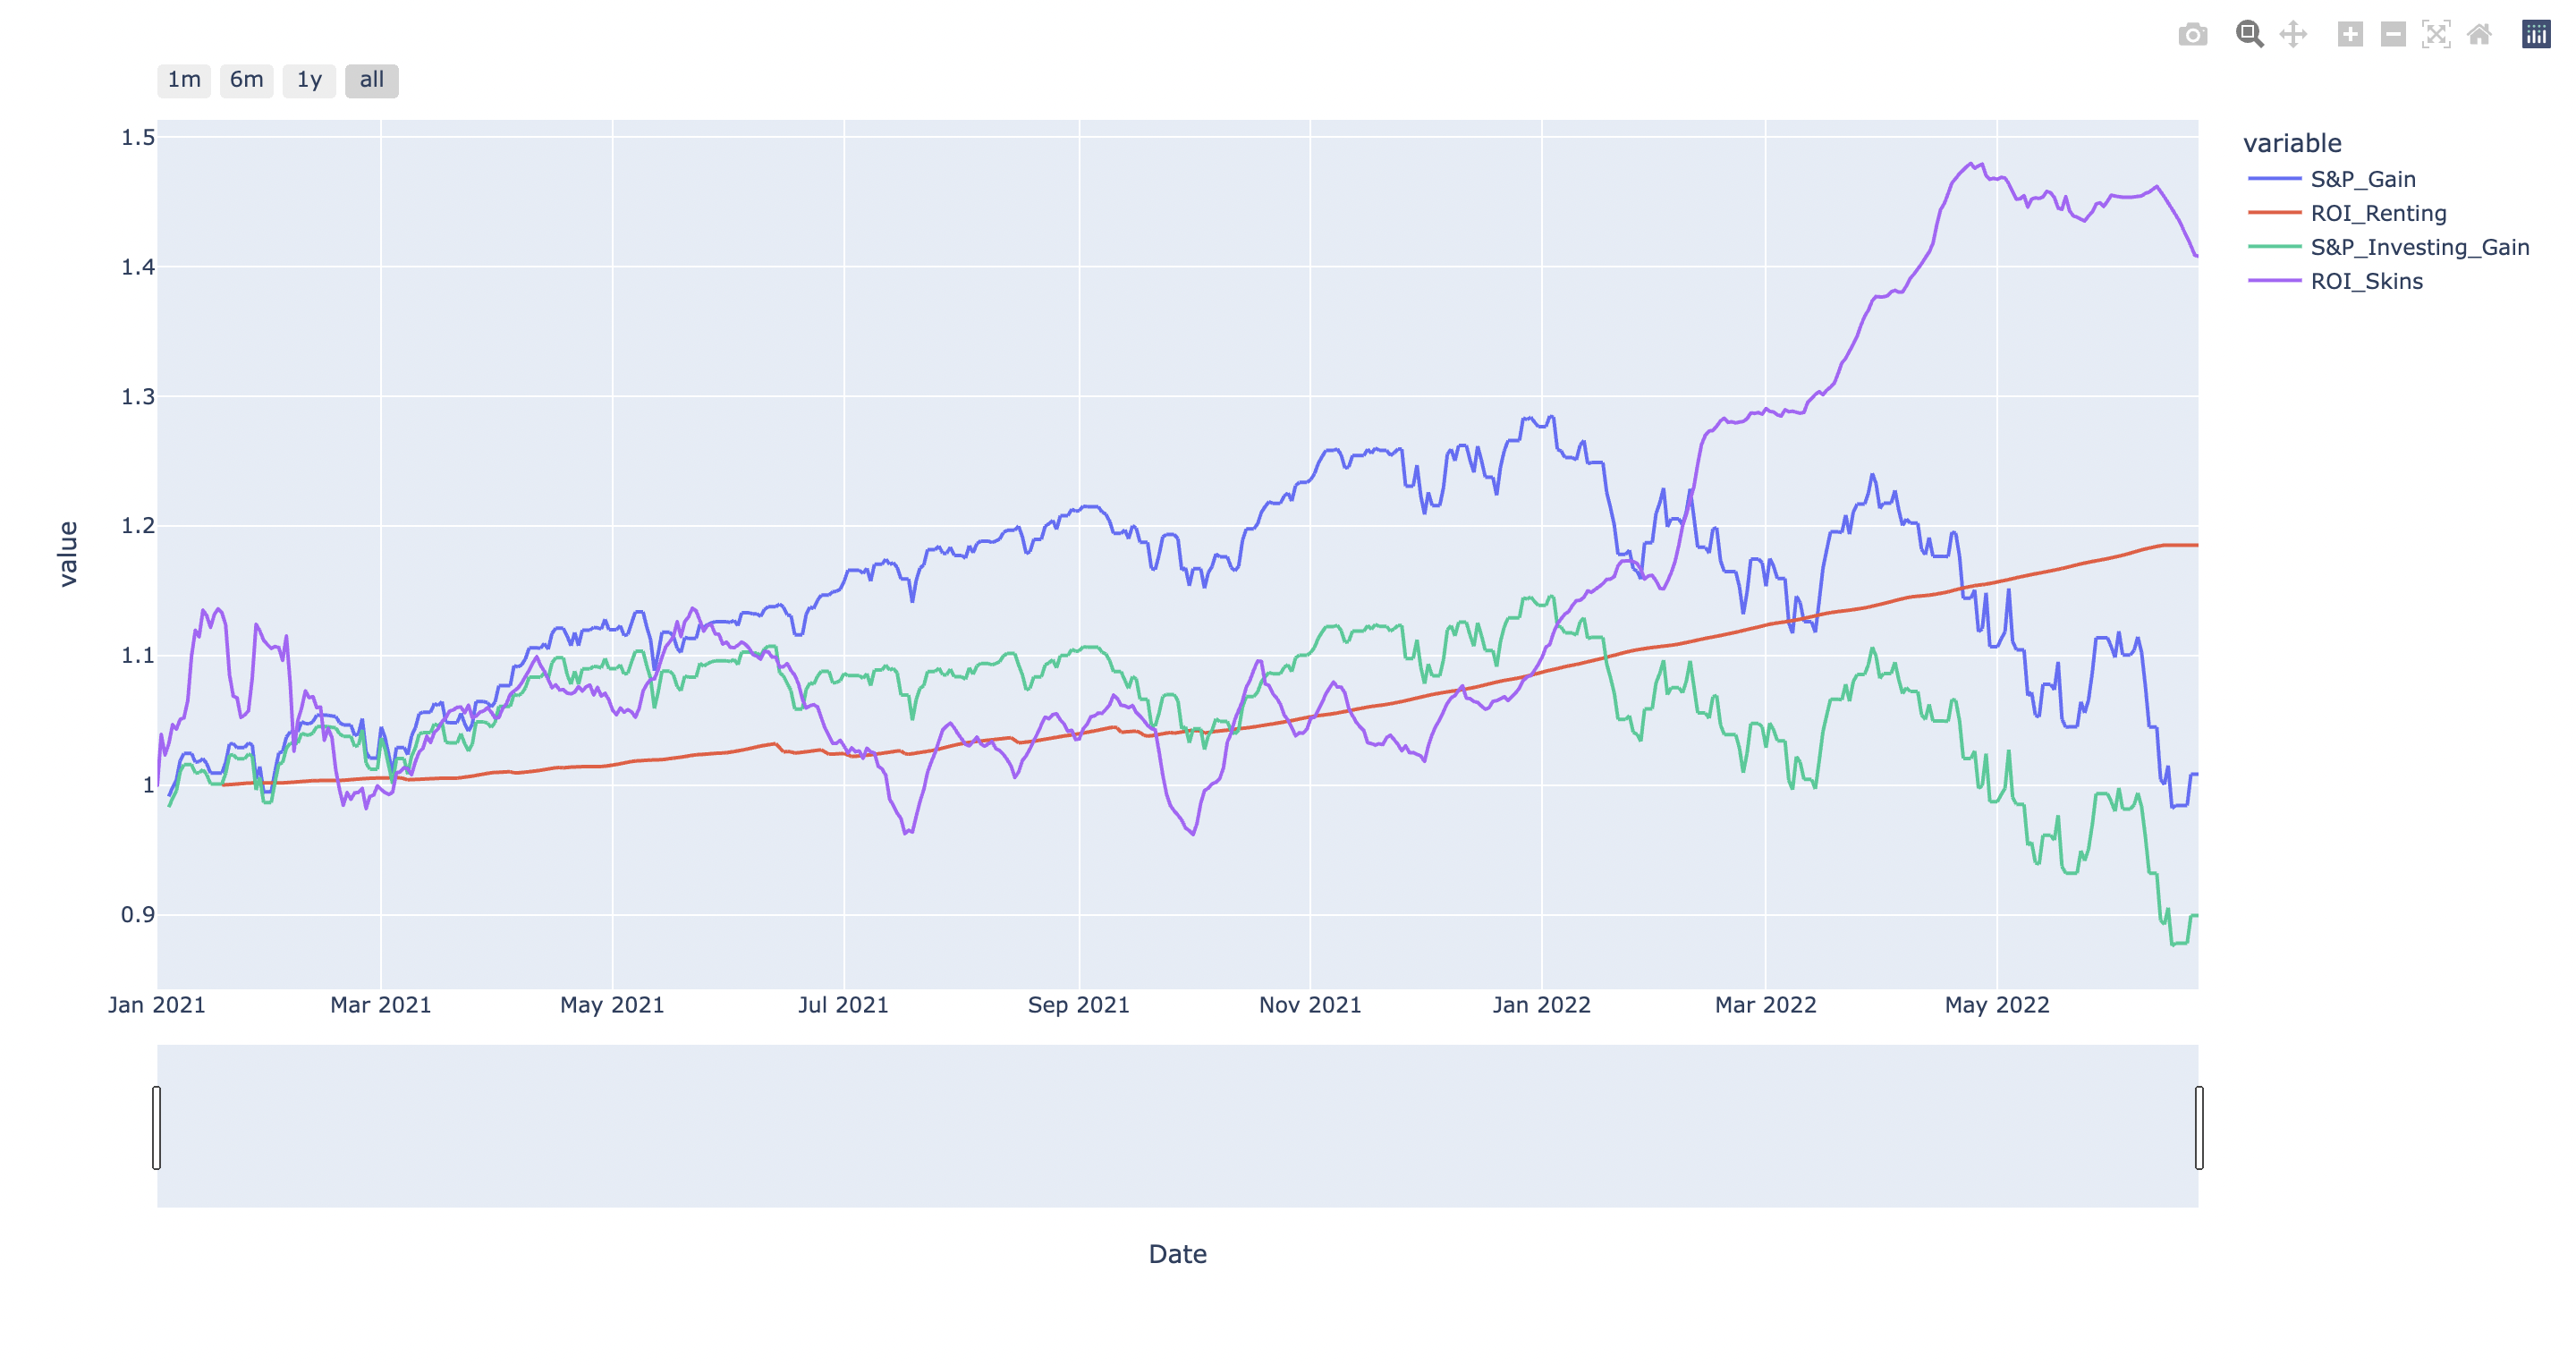

The page's visual inventory and layout, read from the dashboard file:
{"tool":"tableau","page":{"name":"Dashboard 1","canvas":[1000,800],"ordinal":0},"visuals":[{"type":"worksheet","title":"Blatt 1","mark":"Automatic","rows":["Item"],"box":[8,8,984,784]}]}

Visuals, with their boxes on the page's 1000x800 design canvas (x1, y1, x2, y2). These are canvas units, not pixel positions in the 2576x1365 screenshot, which may show the page scaled, cropped or inside an application window:
"Blatt 1" worksheet: [left=8, top=8, right=992, bottom=792]
